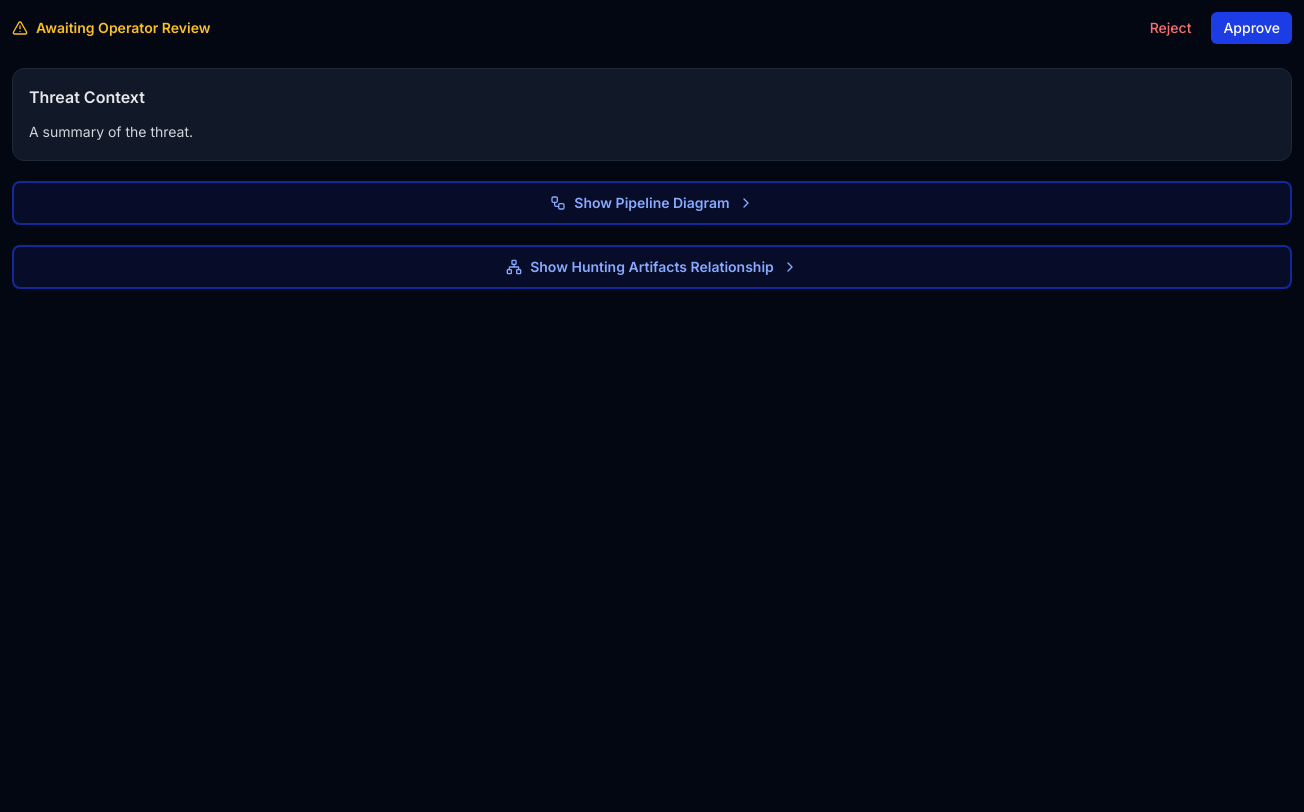
Scenario: AnalysisTab — evidence-chip flag for manually removed IOCs › keeps the pipeline diagram collapsed by default, below Threat Context, revealed by its own toggle
Expected: the text "Intake Classifier" is not shown
Click the button "Show Pipeline Diagram": coordinates (652, 203) [12, 181, 1292, 225]
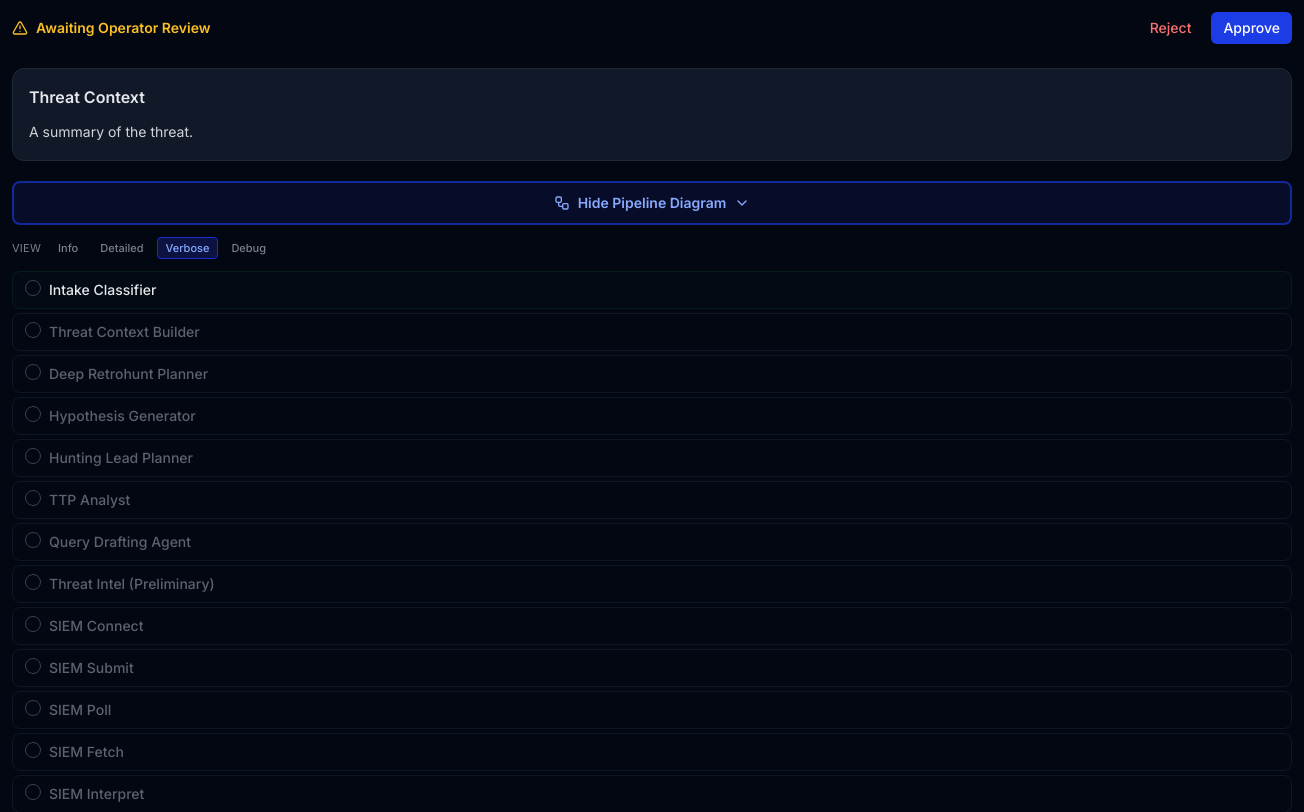
Expected: the button "Hide Pipeline Diagram" is shown, [12, 181, 1292, 225]
Expected: the text "Intake Classifier" is shown, [49, 280, 156, 300]
